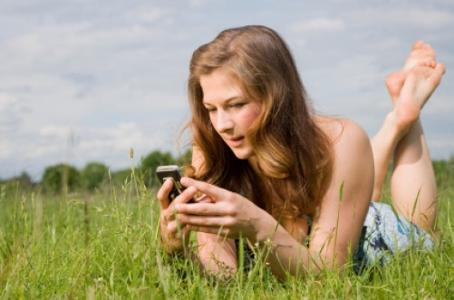person: (157, 24, 448, 281)
